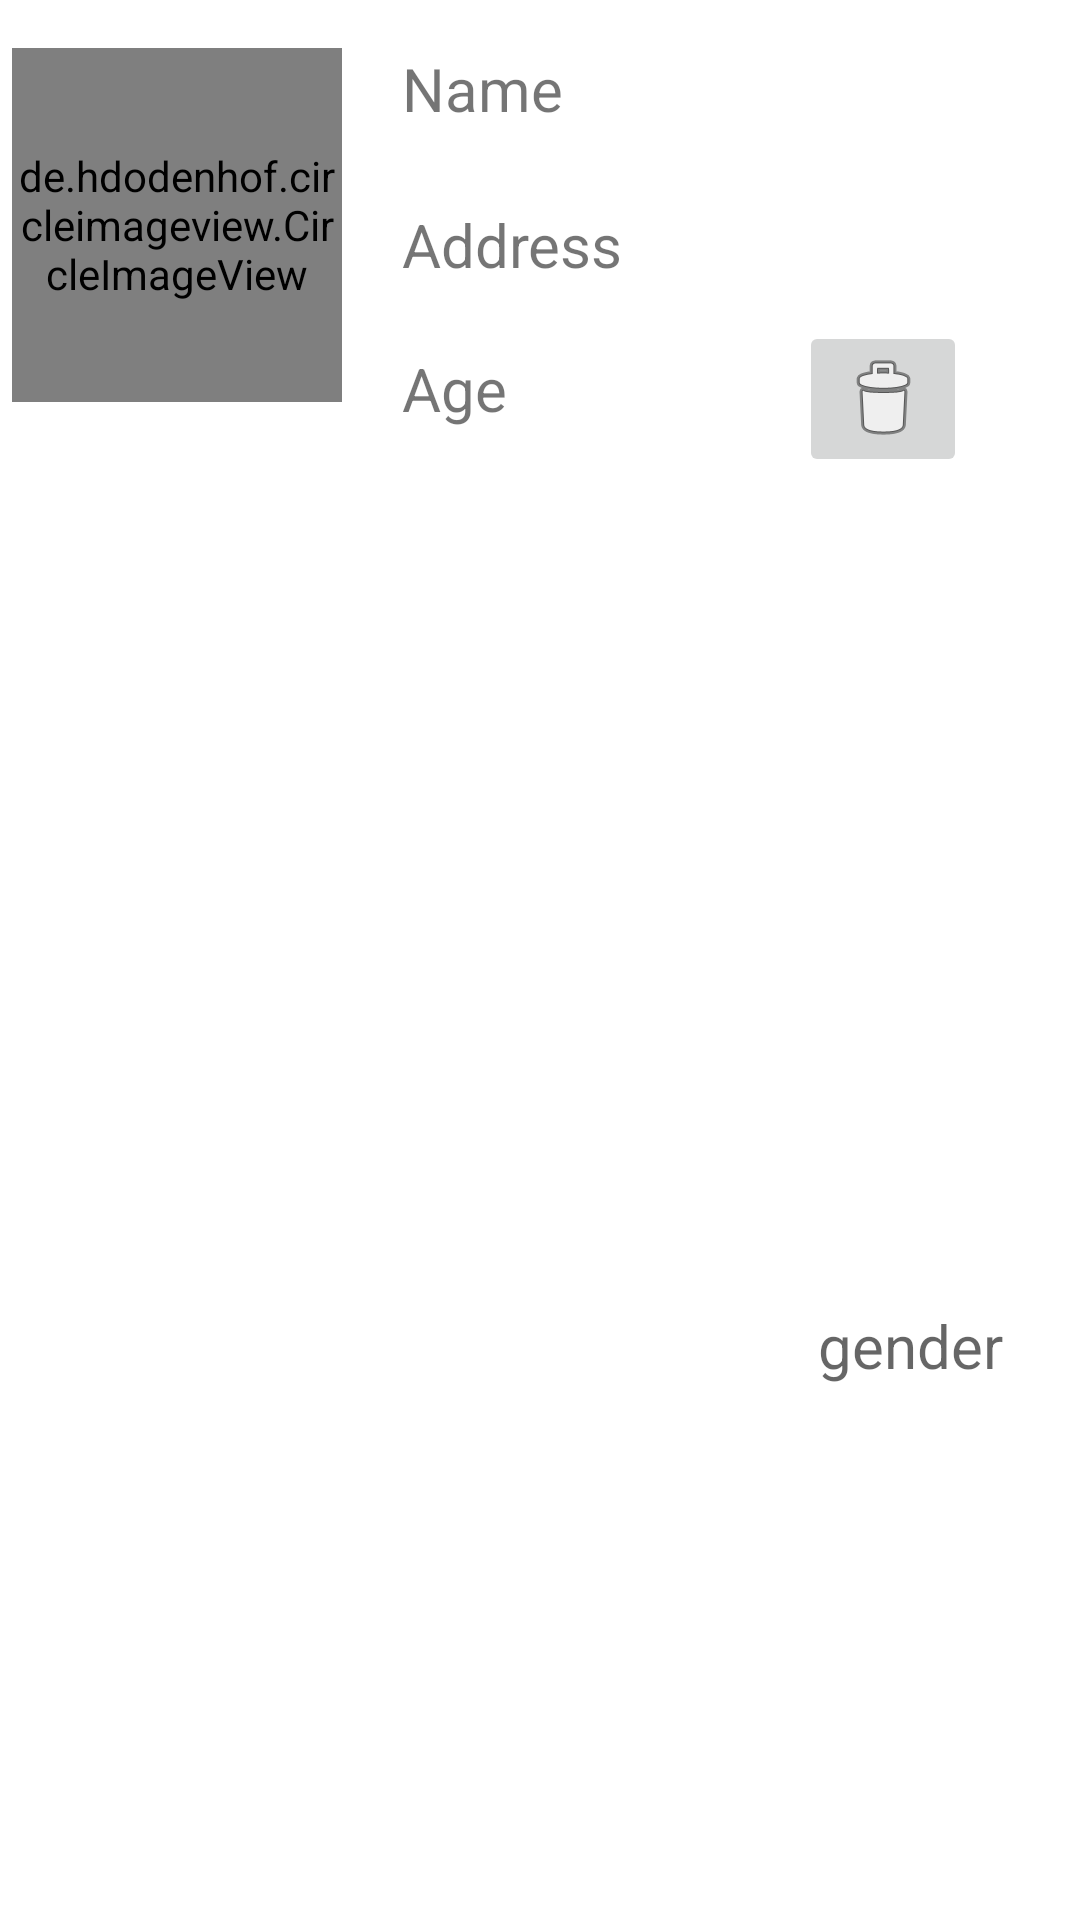

Icon bounding boxes for this 1080x1920 phone screenshot, format (x1, y1, x2, y2):
delete: (811, 339, 955, 459)
